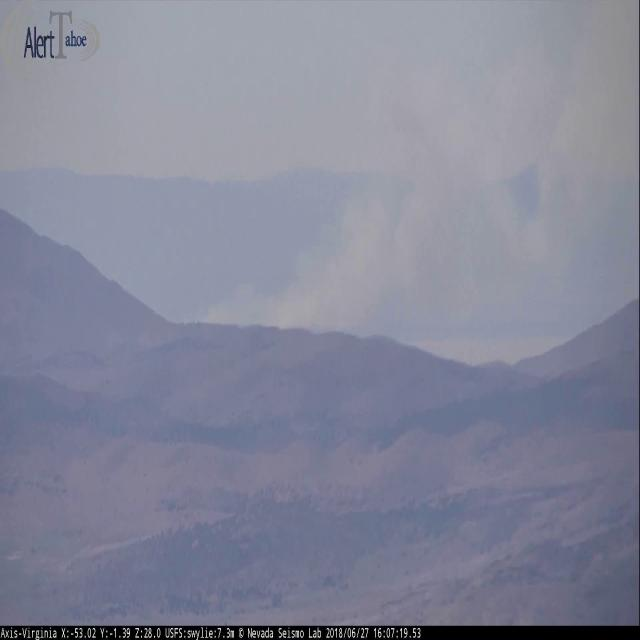smoke: (205, 0, 640, 337)
